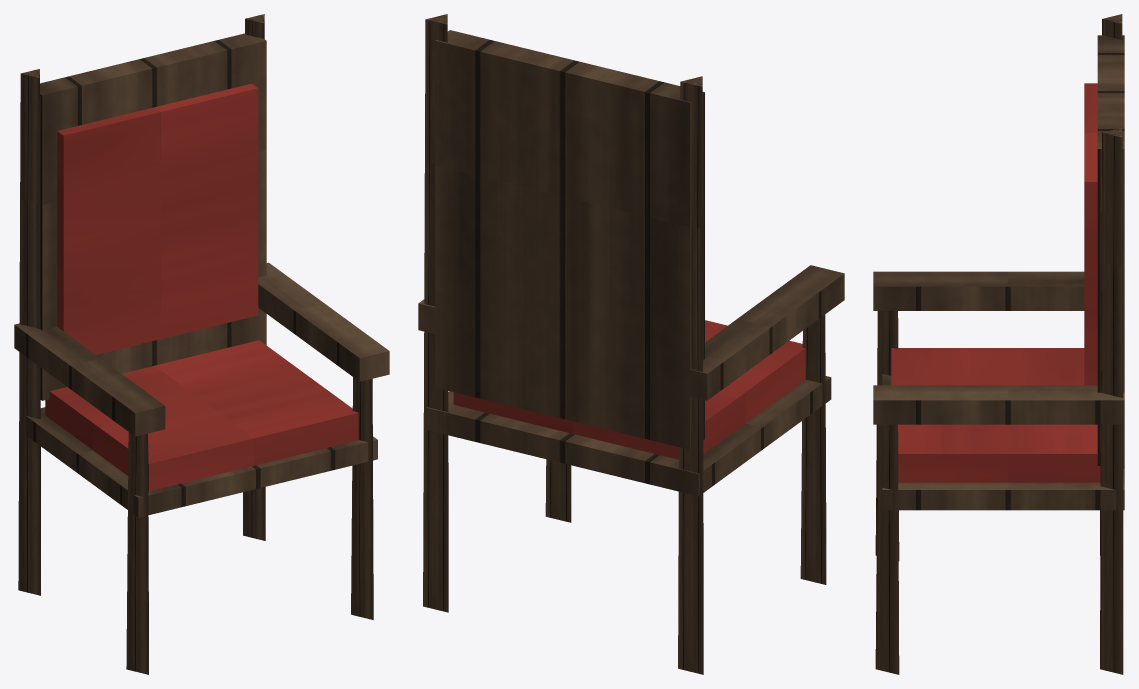
File: Armchair_Carved_1_LOD2.gltf
3 renders of one model, left to right at view 1: azimuth 30°, elevation 25°; view 2: azimuth 150°, elevation 25°; view 3: azimuth 270°, elevation 25°, orthographic. The views are drawn at different scales.
Parts seen in each view (by area): view 1: Armchair_Carved_1_LOD2; view 2: Armchair_Carved_1_LOD2; view 3: Armchair_Carved_1_LOD2.
Boxes of the visible parts, x1,y1,x2,y2 form: Armchair_Carved_1_LOD2: (14, 14, 389, 674); Armchair_Carved_1_LOD2: (418, 14, 844, 674); Armchair_Carved_1_LOD2: (873, 14, 1124, 674).
Size of the model in its own units: 0.68 by 1.32 by 0.56.
2 materials, 2 textured.
